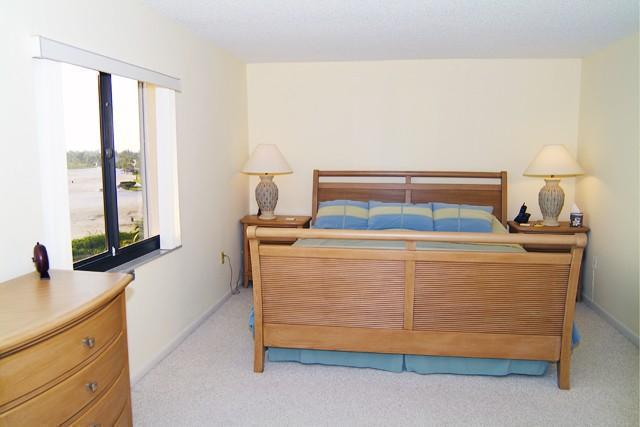Cama: (245, 164, 579, 392)
Ventana: (38, 47, 182, 271)
